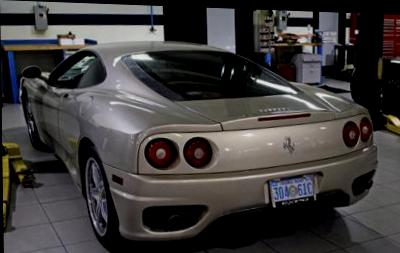License_Plate: (270, 180, 316, 201)
